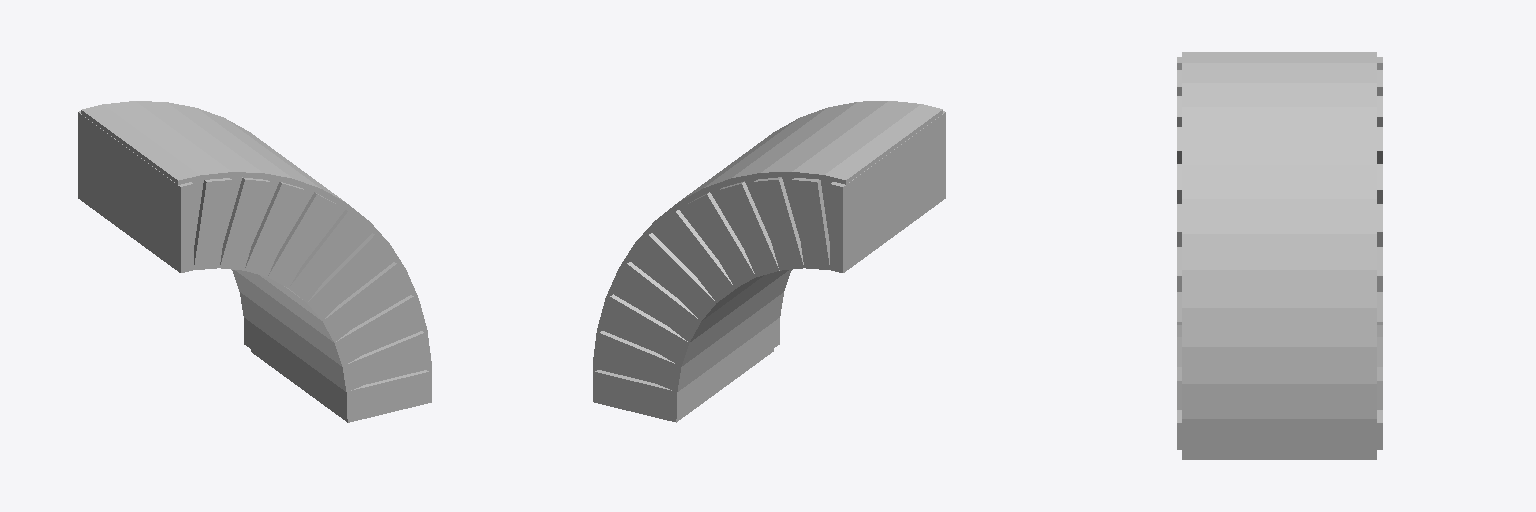
File: lime_mortar_orange_clay_brick_round_arch_2.obj
The picture shows the model from 3 angles: view 1: azimuth 30°, elevation 25°; view 2: azimuth 150°, elevation 25°; view 3: azimuth 270°, elevation 25°; orthographic projection.
Visible parts, largest first — view 1: cube.057, cube.047, cube.048, cube.049, cube.050, cube.069, cube.051, cube.070, cube.068, cube.052, cube.053, cube.055 (+6 smaller); view 2: cube.057, cube.047, cube.048, cube.049, cube.050, cube.051, cube.070, cube.069, cube.052, cube.053, cube.054, cube.055 (+6 smaller); view 3: cube.058, cube.061, cube.062, cube.060, cube.063, cube.059, cube.064, cube.065, cube.066, cube.067, cube.068, cube.069 (+1 smaller).
Part boxes in pixels (x1,y1,x2,y2): cube.057: (78, 111, 193, 272); cube.047: (244, 318, 428, 418); cube.048: (240, 292, 427, 391); cube.049: (232, 270, 421, 365); cube.050: (235, 262, 407, 342); cube.069: (103, 101, 231, 244); cube.051: (260, 233, 389, 320); cube.070: (81, 104, 199, 221); cube.068: (136, 101, 262, 239); cube.052: (284, 210, 366, 302); cube.053: (268, 192, 337, 287); cube.055: (220, 177, 269, 270); cube.057: (830, 111, 945, 272); cube.047: (595, 318, 779, 418); cube.048: (595, 292, 783, 391); cube.049: (602, 270, 791, 366); cube.050: (615, 262, 788, 342); cube.051: (634, 233, 763, 320); cube.070: (824, 104, 942, 240); cube.069: (792, 101, 920, 199); cube.052: (657, 210, 739, 302); cube.053: (686, 192, 755, 287); cube.054: (718, 181, 779, 276); cube.055: (754, 177, 803, 270); cube.058: (1182, 419, 1376, 459); cube.061: (1182, 308, 1376, 346); cube.062: (1182, 270, 1376, 307); cube.060: (1182, 347, 1376, 383); cube.063: (1182, 234, 1376, 269); cube.059: (1182, 384, 1376, 418); cube.064: (1182, 199, 1376, 233); cube.065: (1182, 165, 1376, 198); cube.066: (1182, 135, 1376, 164); cube.067: (1182, 107, 1376, 134); cube.068: (1182, 83, 1376, 106); cube.069: (1182, 63, 1376, 82).
Bounding box in the file's own units: 1.52 × 1.62 × 1.07.